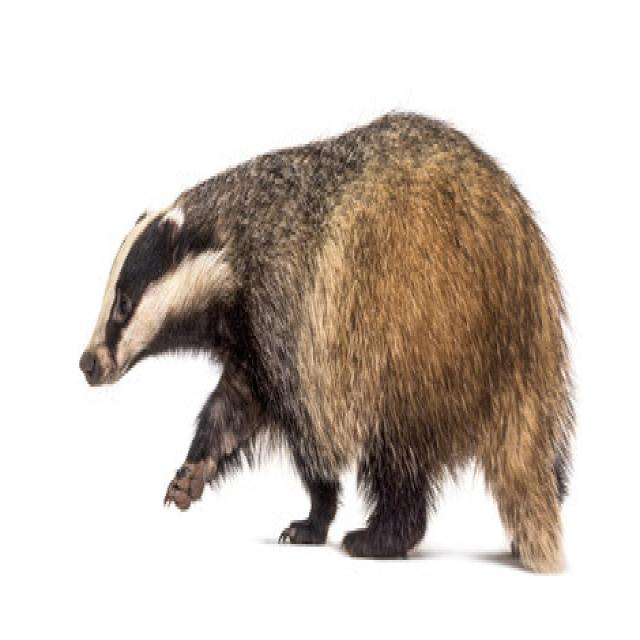badger: (76, 109, 576, 576)
